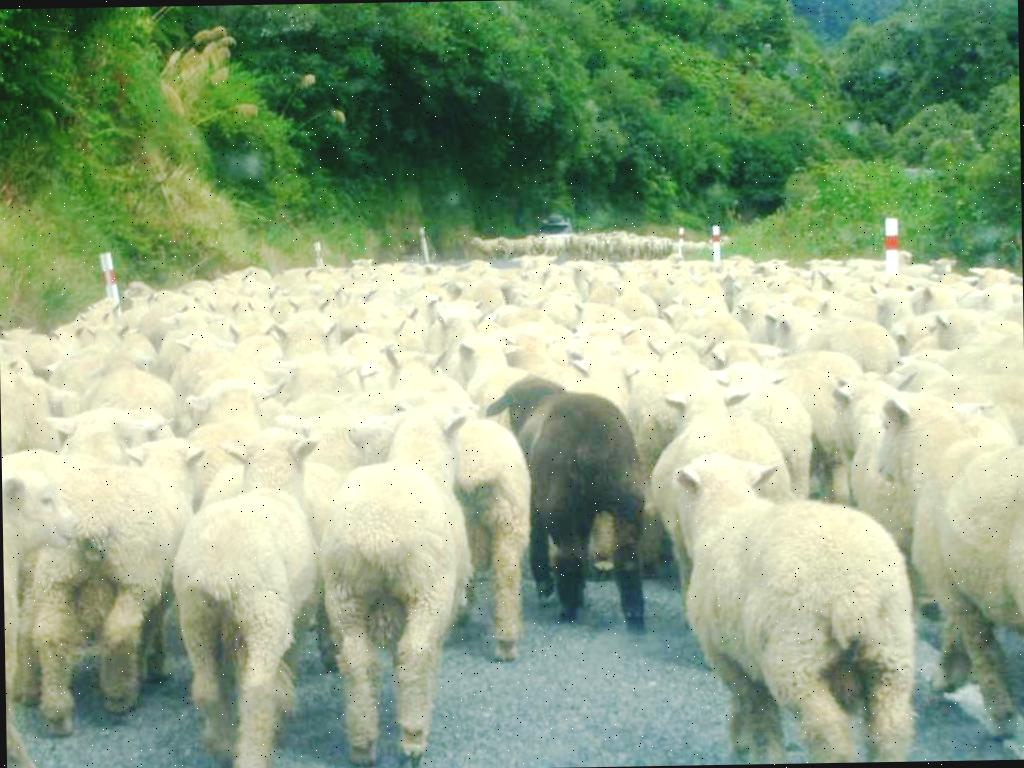Sheep: (663, 442, 931, 766), (849, 386, 1024, 746), (8, 438, 202, 736), (315, 401, 471, 768), (171, 434, 325, 768), (488, 367, 660, 644), (407, 398, 532, 666), (646, 388, 794, 608), (1, 449, 83, 768), (832, 376, 920, 524), (36, 398, 162, 466), (176, 372, 288, 445), (451, 334, 530, 390), (269, 318, 345, 370), (909, 283, 982, 336), (638, 330, 715, 380), (383, 342, 449, 389), (494, 235, 528, 259), (470, 233, 500, 259)
